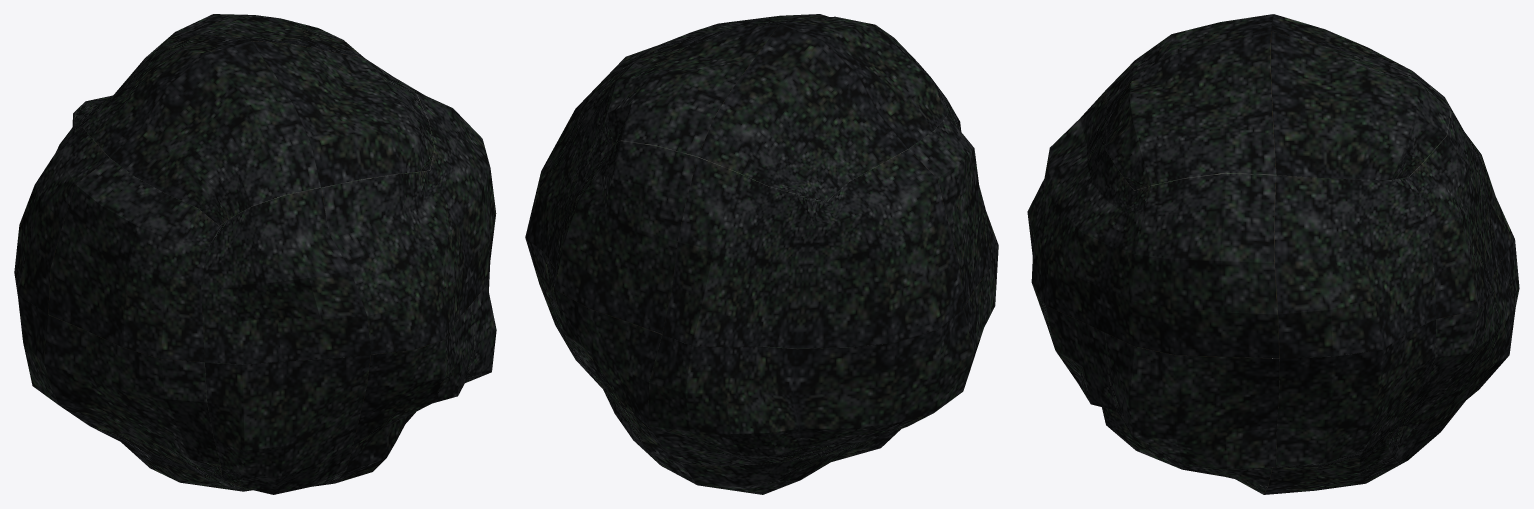
Rendered from SM_EC_Rock_92.fbx.
The picture shows the model from 3 angles, left to right: view 1: azimuth 30°, elevation 25°; view 2: azimuth 150°, elevation 25°; view 3: azimuth 270°, elevation 25°; orthographic projection.
Parts seen in each view (by area): view 1: SM_EC_Rock_92; view 2: SM_EC_Rock_92; view 3: SM_EC_Rock_92.
Part boxes in pixels (x1,y1,x2,y2): SM_EC_Rock_92: [14, 14, 496, 494]; SM_EC_Rock_92: [525, 14, 998, 494]; SM_EC_Rock_92: [1027, 14, 1519, 494].
Bounding box in the file's own units: 2.05 × 2.09 × 2.07.
